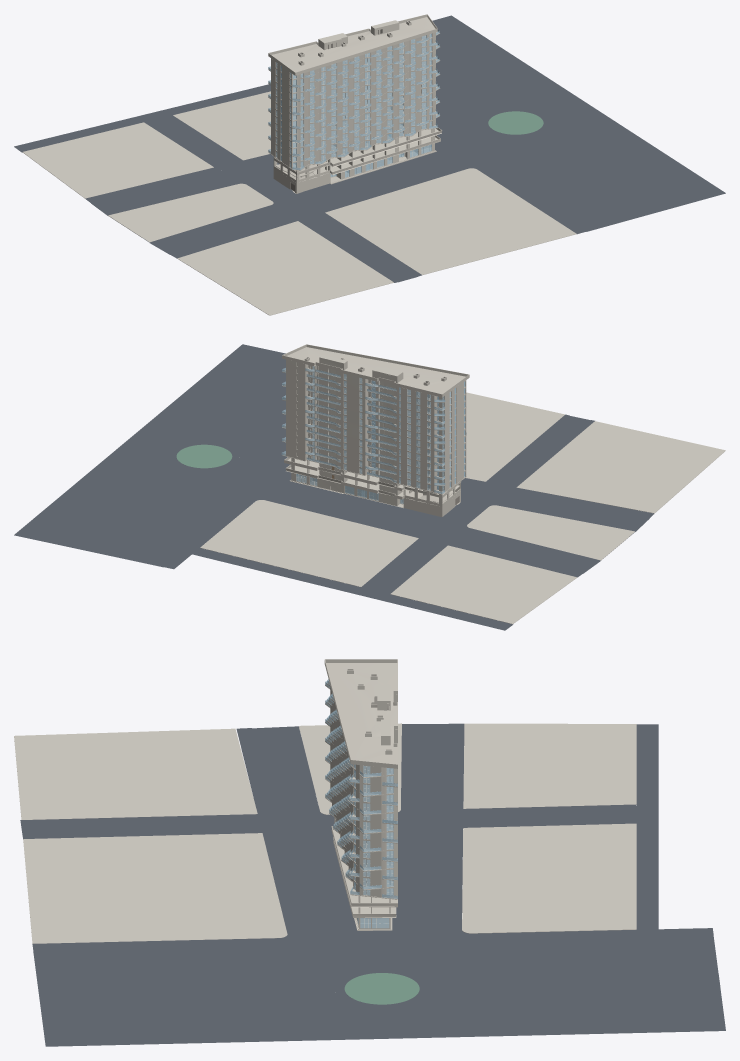
File: al-zareef.glb
3 renders of one model, top to bottom at view 1: azimuth 30°, elevation 25°; view 2: azimuth 150°, elevation 25°; view 3: azimuth 270°, elevation 25°, orthographic. The views are drawn at different scales.
Visible parts, largest first — view 1: stone, ground, glass, green; view 2: stone, ground, glass, green; view 3: ground, stone, glass, green.
Part boxes in pixels (<box>): stone: <box>22,14,576,315</box>; ground: <box>14,15,725,282</box>; glass: <box>268,30,439,177</box>; green: <box>488,111,543,134</box>; stone: <box>200,344,725,624</box>; ground: <box>14,344,653,630</box>; glass: <box>281,366,466,503</box>; green: <box>176,444,232,468</box>; ground: <box>20,723,725,1046</box>; stone: <box>14,659,636,943</box>; glass: <box>325,679,397,928</box>; green: <box>344,973,419,1004</box>.
Size of the model in its own units: 115 by 30.3 by 107.
